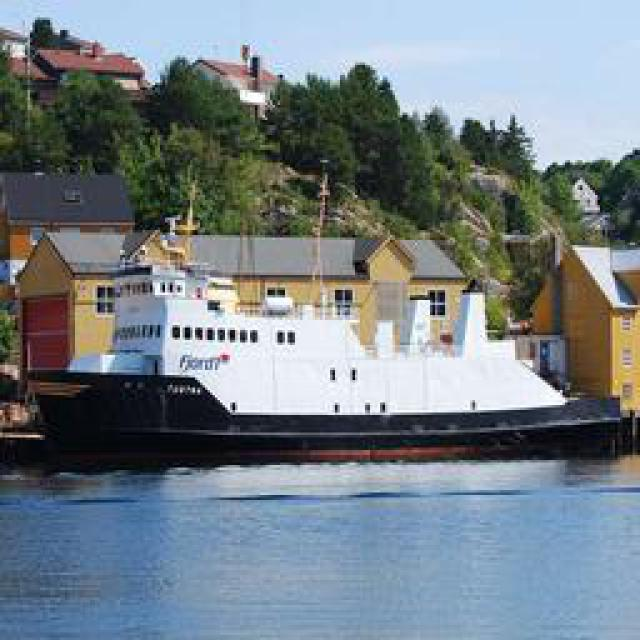Ship: (31, 205, 614, 445)
